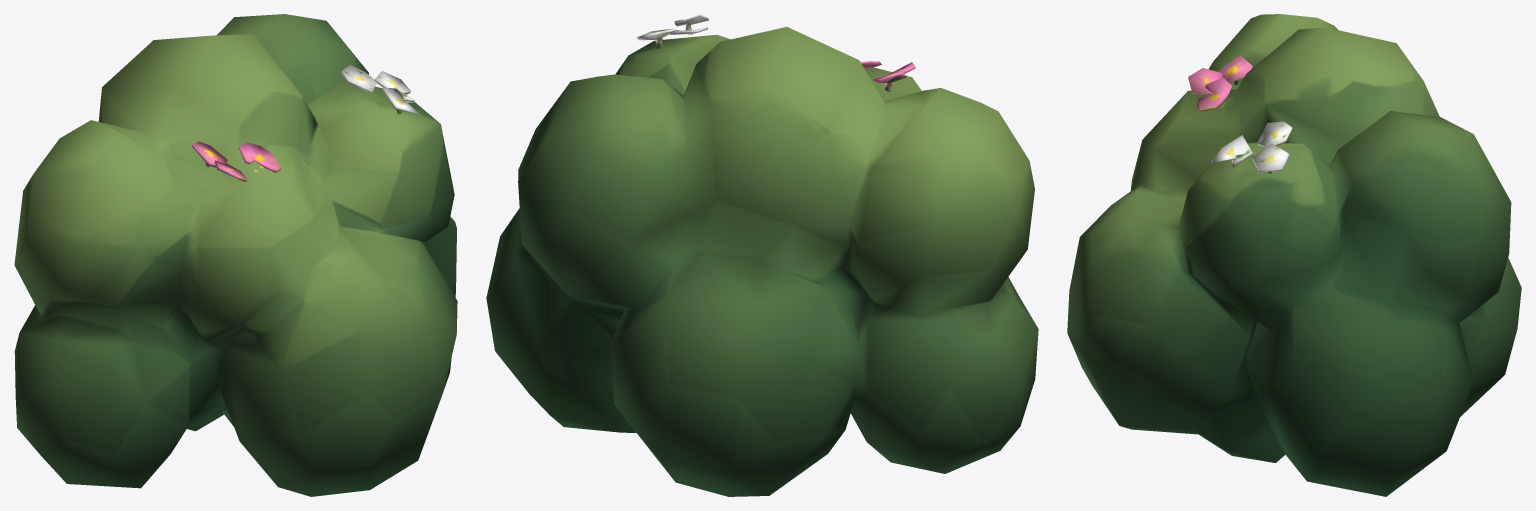
3 renders of one model, left to right at view 1: azimuth 30°, elevation 25°; view 2: azimuth 150°, elevation 25°; view 3: azimuth 270°, elevation 25°, orthographic. The views are drawn at different scales.
Visible parts, largest first — view 1: forest-bush; view 2: forest-bush; view 3: forest-bush.
Boxes of the visible parts, x1=… form: forest-bush: x1=14, y1=14, x2=457, y2=496; forest-bush: x1=486, y1=14, x2=1038, y2=496; forest-bush: x1=1067, y1=14, x2=1521, y2=496.
Bounding box in the file's own units: 0.393 × 0.3307 × 0.3497.
1 material, 1 textured.
